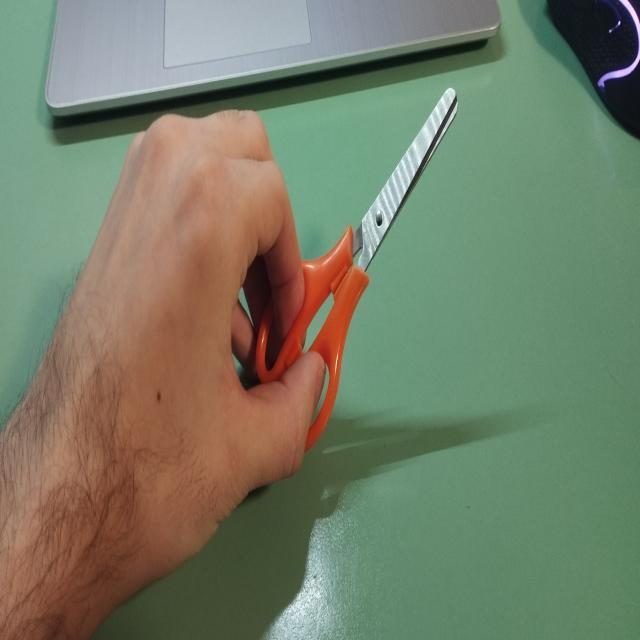tesoura: (252, 86, 459, 457)
